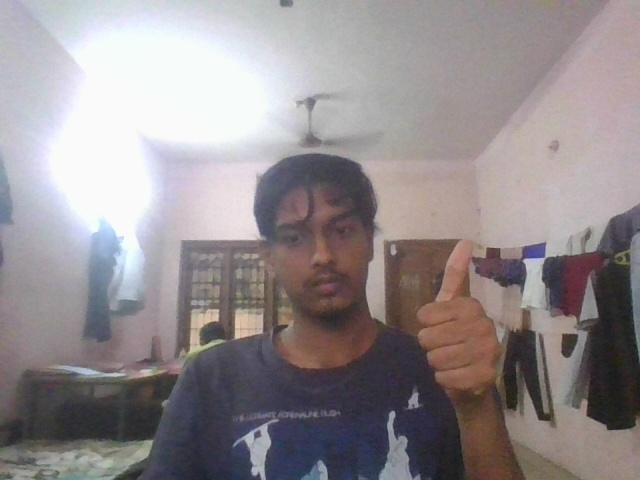thumbsup: (411, 237, 512, 409)
